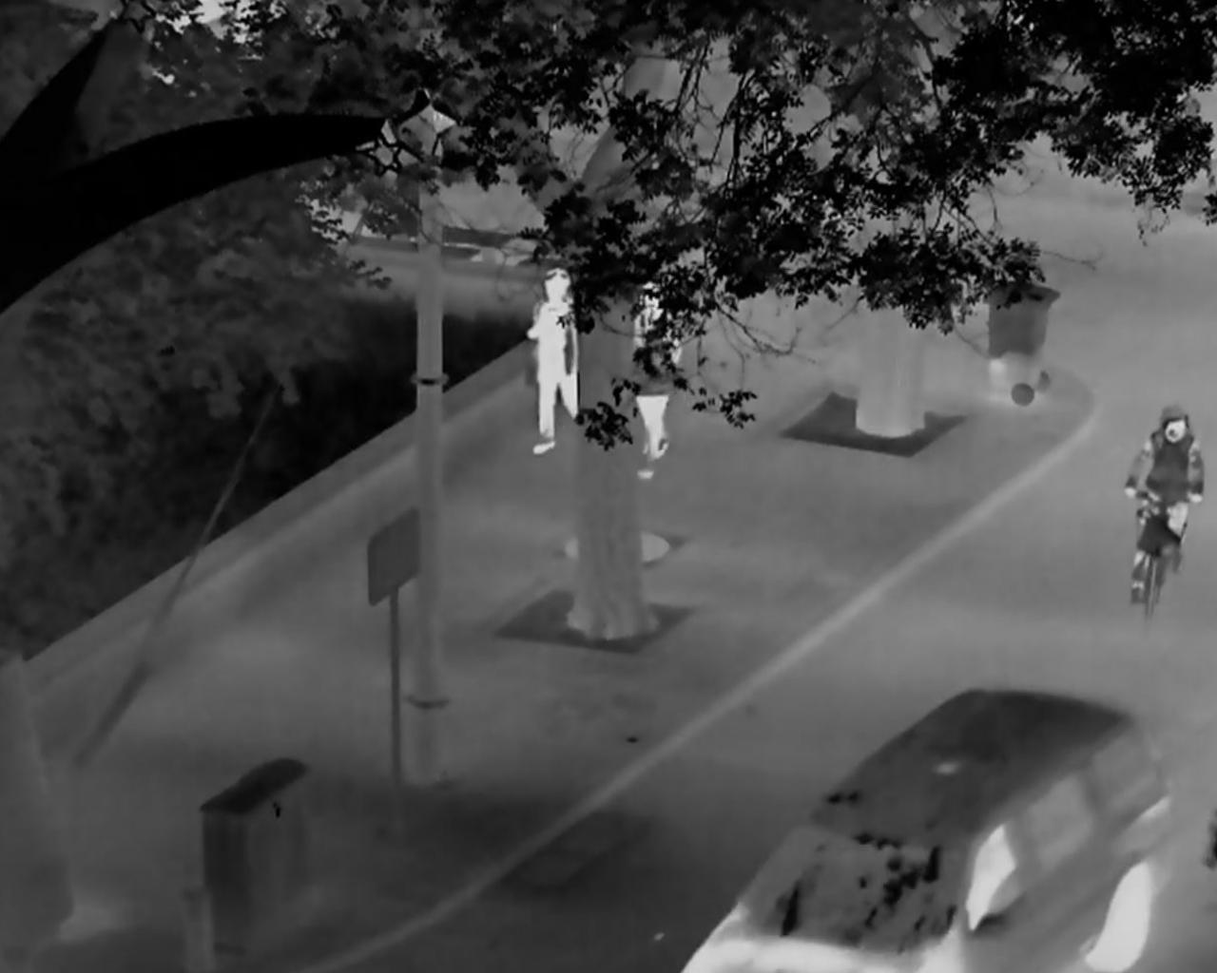person: (1124, 405, 1205, 605), (524, 264, 582, 454), (632, 280, 682, 478)
